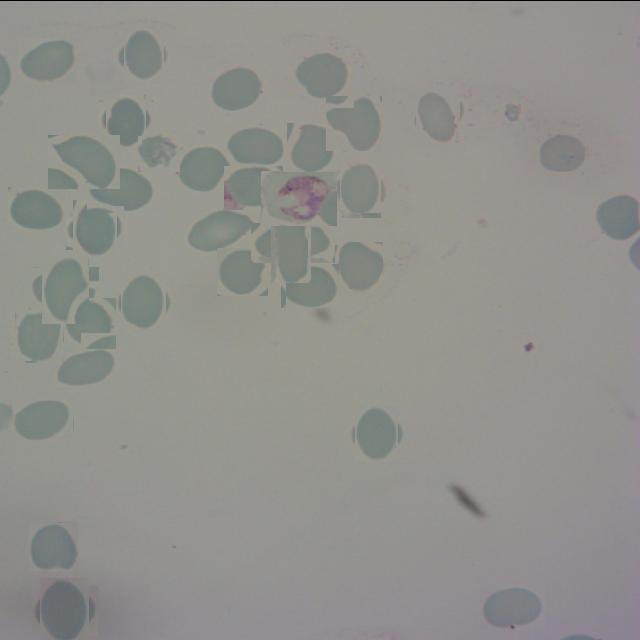leukocyte: (48, 134, 120, 188), (260, 212, 320, 272), (36, 581, 94, 639), (36, 261, 94, 318), (185, 207, 256, 253), (87, 165, 155, 212), (326, 94, 382, 150), (480, 584, 545, 629), (12, 395, 74, 440), (64, 296, 117, 348), (118, 275, 170, 327), (13, 308, 65, 360), (281, 262, 341, 307), (225, 124, 287, 167), (17, 37, 76, 82), (55, 345, 118, 387), (222, 166, 282, 210), (210, 63, 266, 110), (352, 408, 402, 458), (70, 202, 120, 252), (413, 89, 463, 139), (287, 122, 338, 171), (8, 187, 65, 230), (217, 247, 268, 295), (336, 164, 385, 213), (296, 52, 349, 97), (180, 145, 231, 191), (120, 30, 168, 78), (29, 522, 77, 570), (337, 242, 384, 290), (102, 96, 149, 142), (540, 131, 588, 171), (138, 135, 180, 171)
schizont: (261, 171, 337, 225)
